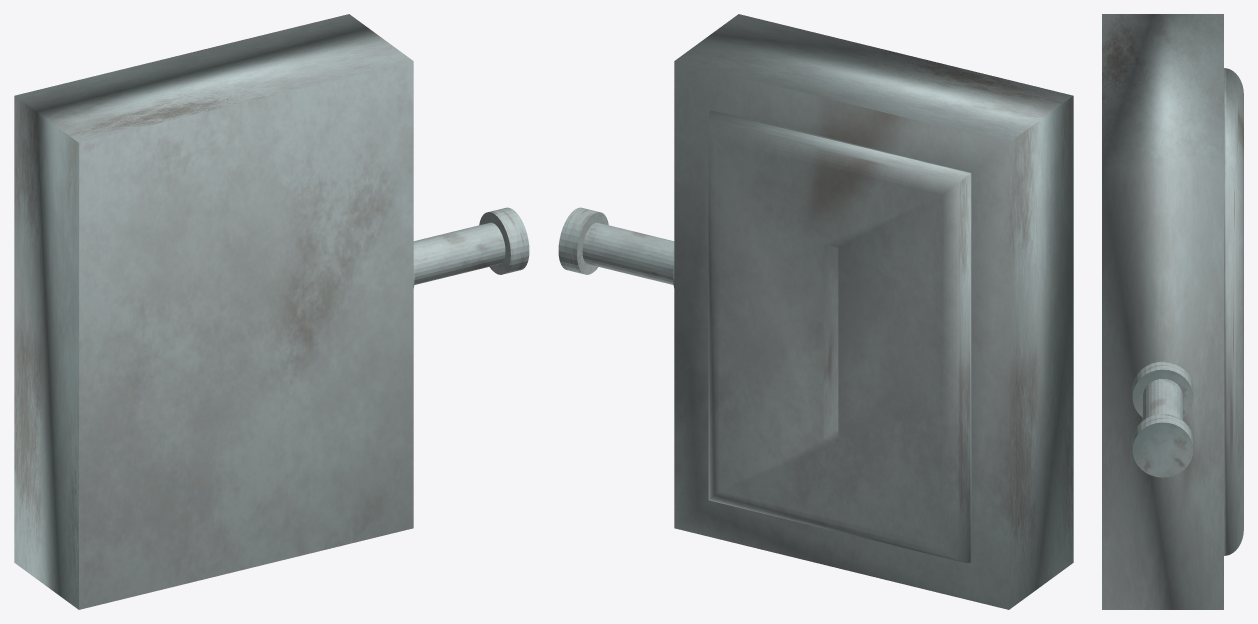
Rendered from Main_Switch_box_only.fbx.
3 renders of one model, left to right at view 1: azimuth 30°, elevation 25°; view 2: azimuth 150°, elevation 25°; view 3: azimuth 270°, elevation 25°, orthographic. The views are drawn at different scales.
Parts seen in each view (by area): view 1: Side box, side box tube; view 2: Side box, side box tube; view 3: Side box, side box tube.
Boxes of the visible parts, <box> form: Side box: <box>14,14,413,609</box>; side box tube: <box>413,207,529,287</box>; Side box: <box>674,14,1073,609</box>; side box tube: <box>558,207,674,287</box>; Side box: <box>1102,14,1243,609</box>; side box tube: <box>1132,361,1193,477</box>.
Size of the model in its own units: 25.09 by 24 by 6.99.
Materials: 1 (1 with a texture image).
